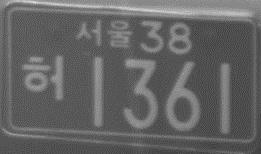1: (89, 55, 107, 130), (217, 60, 234, 136)
3: (122, 56, 159, 130), (139, 18, 165, 55)
6: (164, 60, 203, 132)
8: (167, 21, 193, 55)
서울_O: (75, 18, 134, 50)
허: (21, 54, 65, 102)
